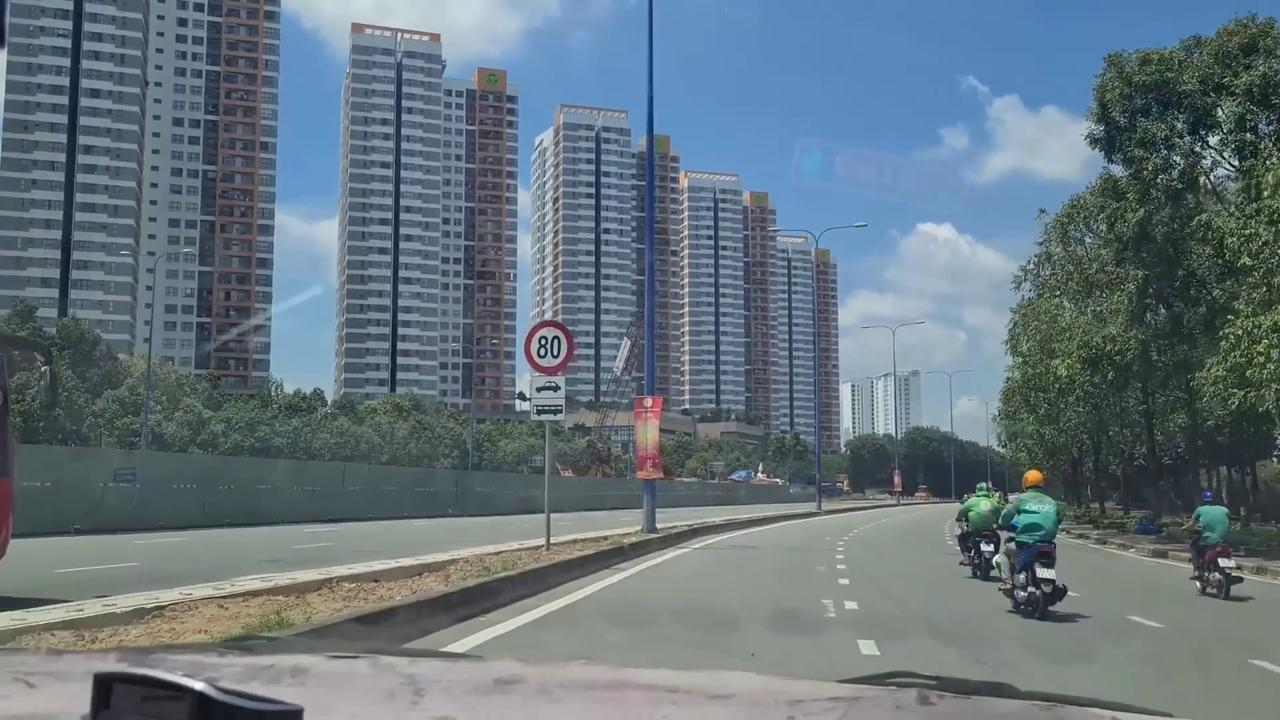Biển phụ: (529, 374, 567, 422)
Giới hạn tốc độ 80Km/h: (523, 319, 576, 374)
